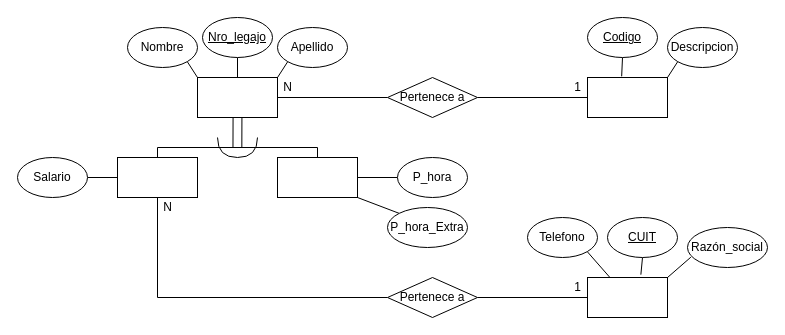
This 785x335 diagram has some shape labels left out. The centre of each missing label's shape, as x and y in pixels:
Consultora: (627,297)
Contratados: (317,177)
Departamento: (627,97)
Efectivos: (157,177)
Empleado: (237,97)
